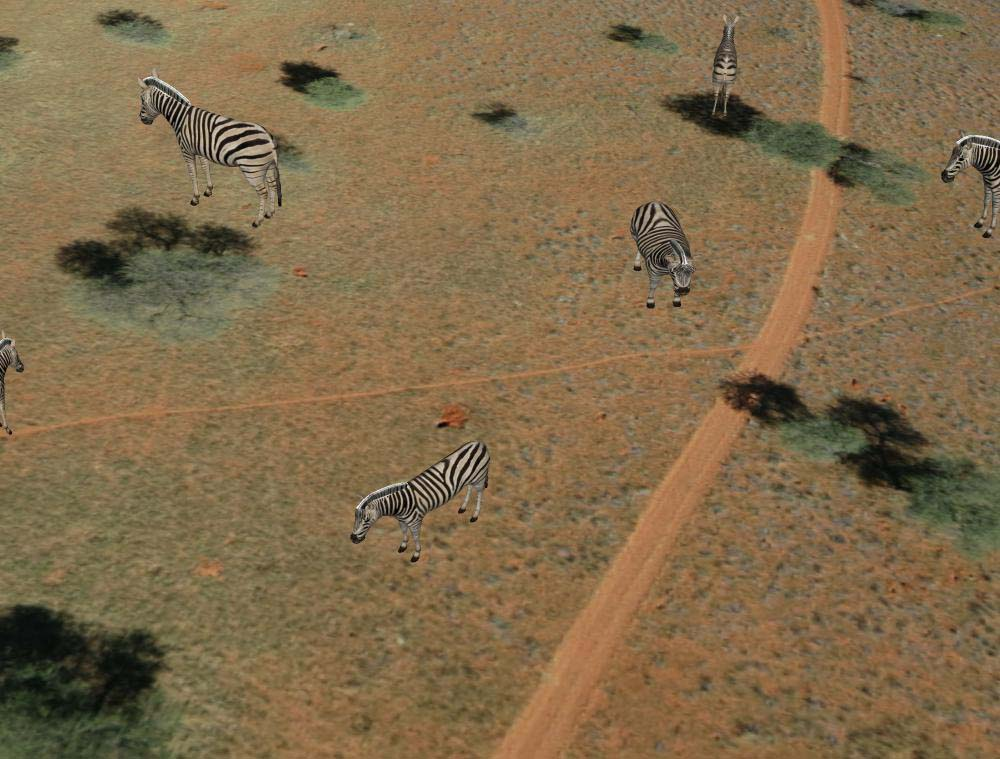zebra: (133, 70, 291, 227), (348, 439, 499, 567), (626, 199, 696, 318), (933, 129, 1000, 239), (707, 13, 744, 124), (1, 329, 31, 439)
